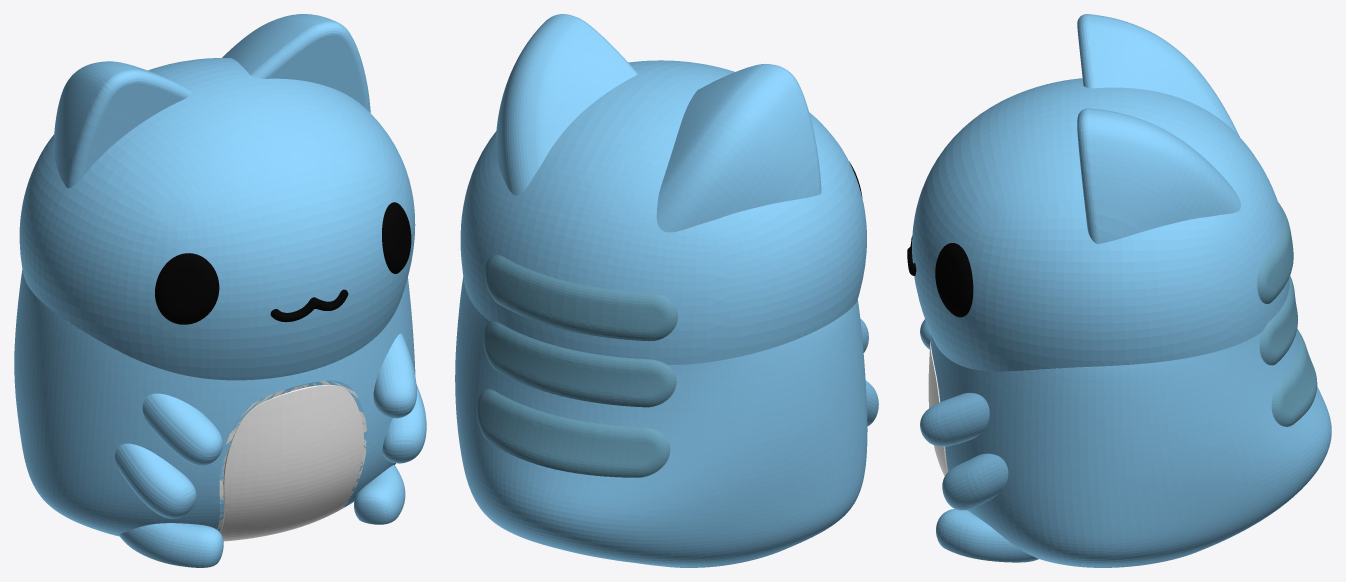
File: capoo2.glb
3 views of the same model, side by side, from view 1: azimuth 30°, elevation 25°; view 2: azimuth 150°, elevation 25°; view 3: azimuth 270°, elevation 25° (orthographic). The views are drawn at different scales.
Parts seen in each view (by area): view 1: entity_2; view 2: entity_2; view 3: entity_2.
Boxes of the visible parts, left/top/right/bottom form: entity_2: left=14, top=14, right=426, bottom=567; entity_2: left=455, top=14, right=878, bottom=567; entity_2: left=907, top=14, right=1331, bottom=567.
Bounding box in the file's own units: 0.4191 × 0.5 × 0.4411.
